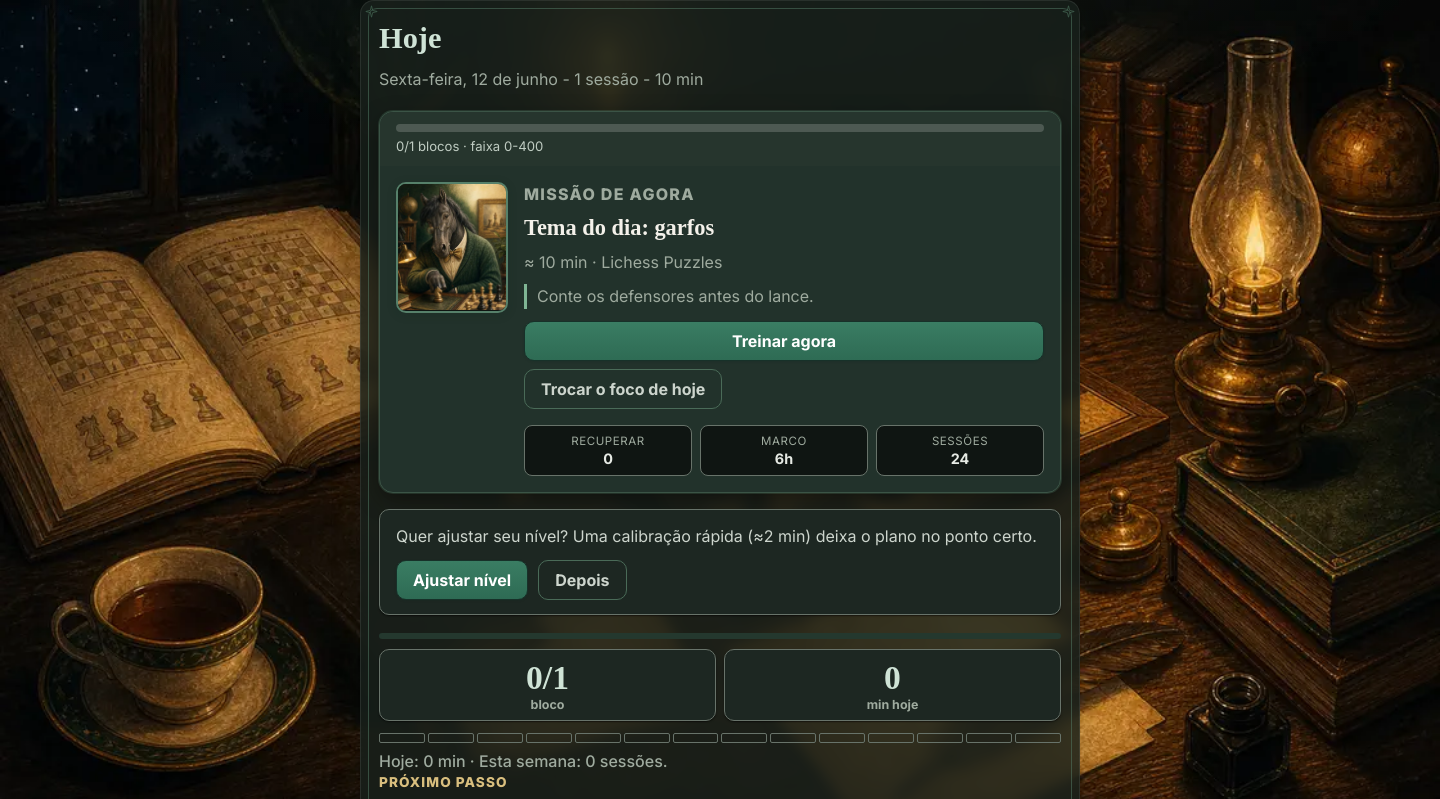
Test: Today — convite de calibração › o dispensar PERSISTE: o convite não volta após remontar a tela
Click the button "Depois": [582, 580] box [538,560,626,600]
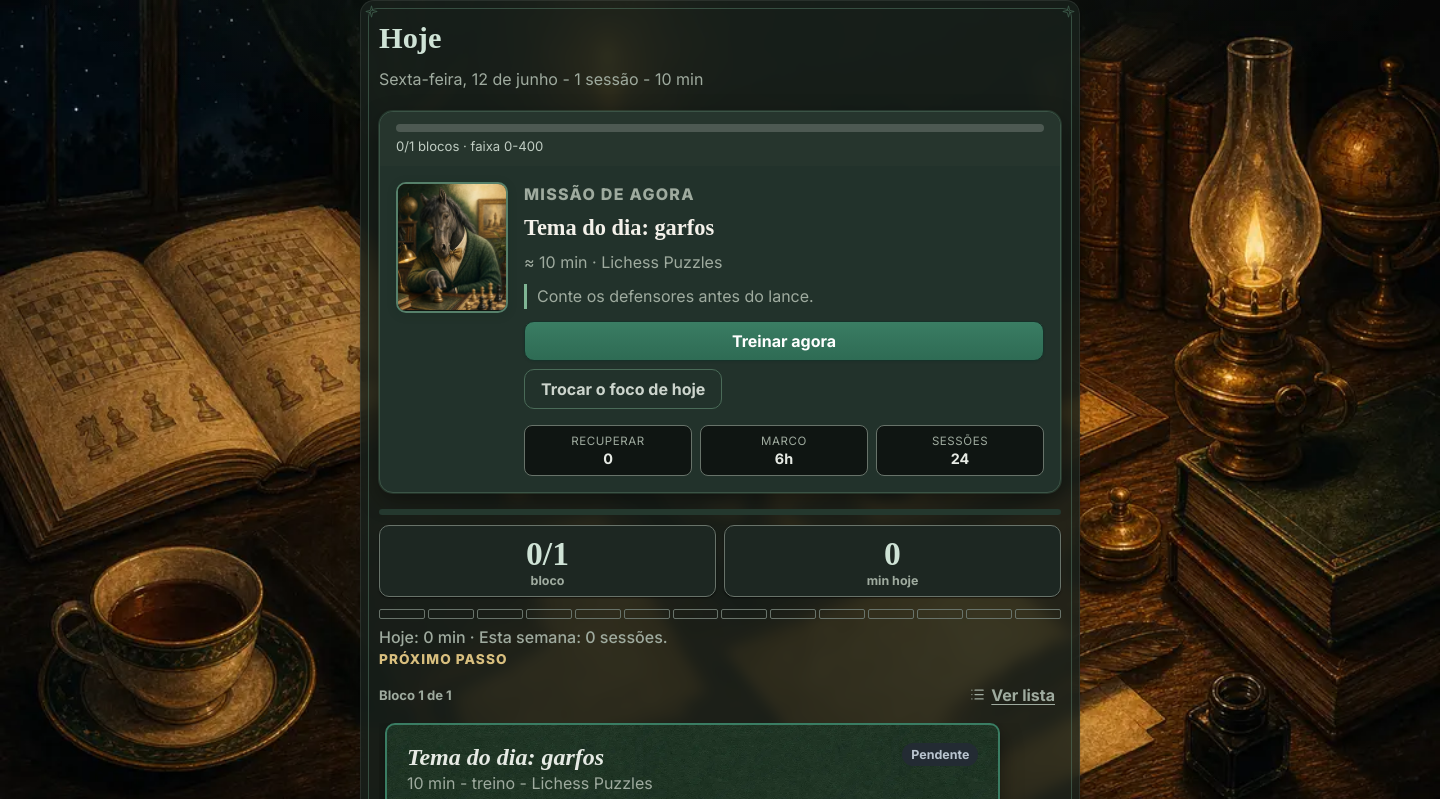
Now the text "Quer ajustar seu nível" is gone
